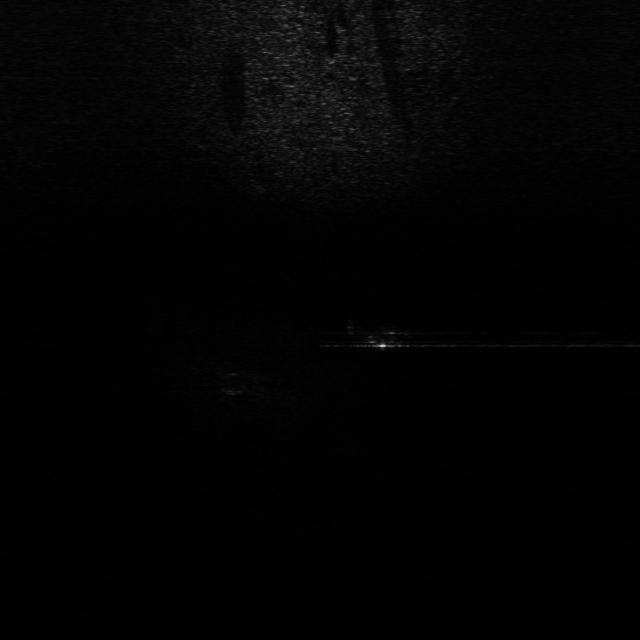ball: (211, 365, 258, 397)
human body: (346, 314, 430, 354)
